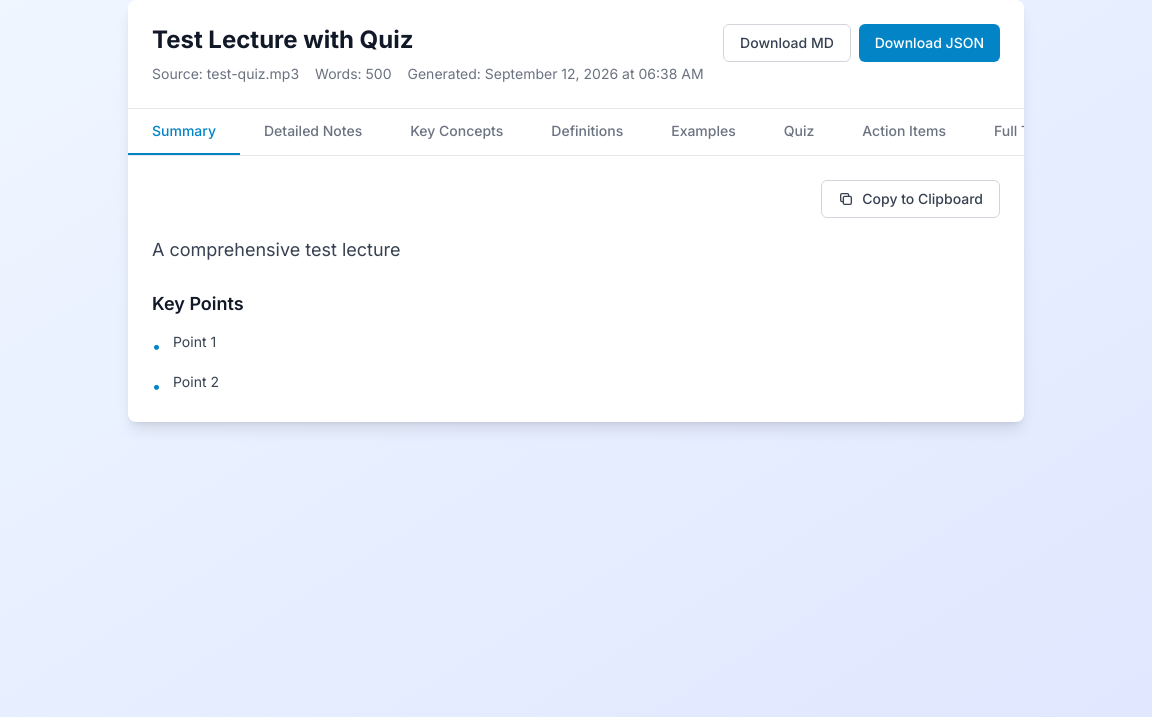
Test: Quiz Feature › Edge Cases › should handle quiz with only one question
Click the button "Quiz".
click(799, 132)  # box top-left (760, 109), bottom-right (838, 155)
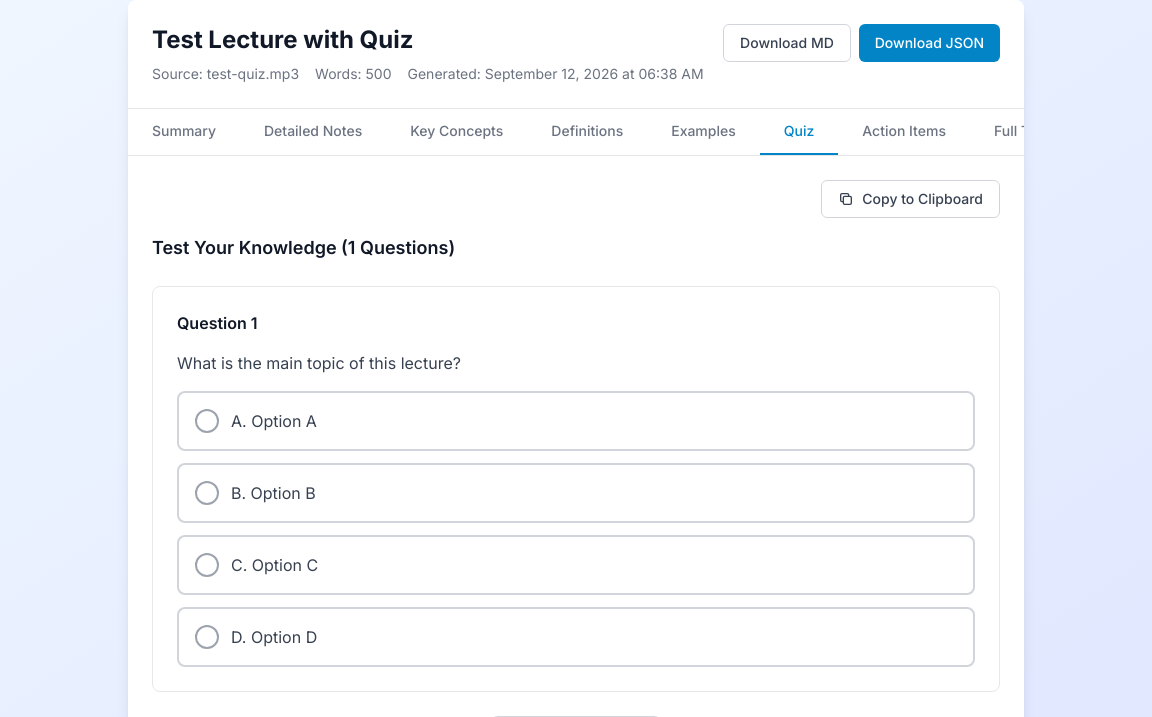
Now the heading "Test Your Knowledge (1 Questions)" is shown, box top-left (152, 234), bottom-right (455, 262)
Now the number of headings "Question 1" is 1, box top-left (177, 313), bottom-right (258, 333)
